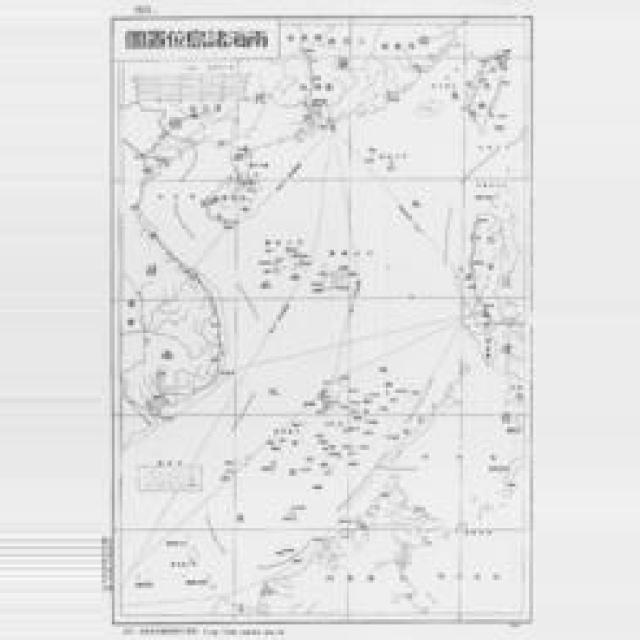Nine Dash Line: (148, 93, 634, 589)
